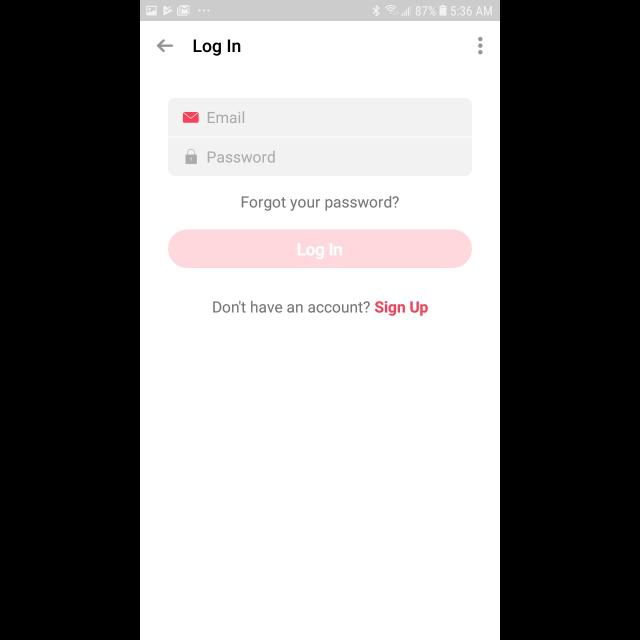icon: (157, 40, 173, 52), (183, 112, 199, 124), (186, 149, 198, 165), (478, 36, 482, 56)
input: (168, 99, 472, 137), (168, 138, 472, 176)
text: (214, 300, 428, 316), (241, 196, 399, 212), (208, 151, 276, 165), (193, 40, 240, 56), (207, 112, 245, 125)
textbutton: (168, 230, 472, 268)
uppertaskbar: (140, 1, 500, 22)
